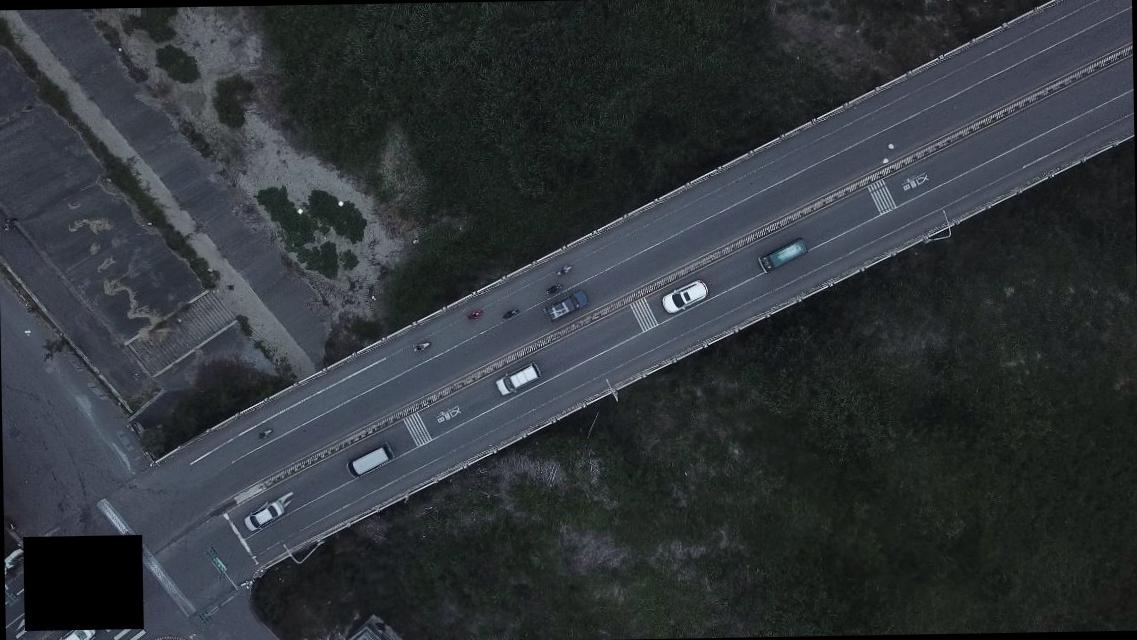vehicle: (344, 442, 395, 478), (758, 238, 809, 274), (493, 362, 542, 398), (660, 278, 709, 314), (242, 498, 286, 532), (544, 288, 590, 320), (52, 620, 98, 639)
